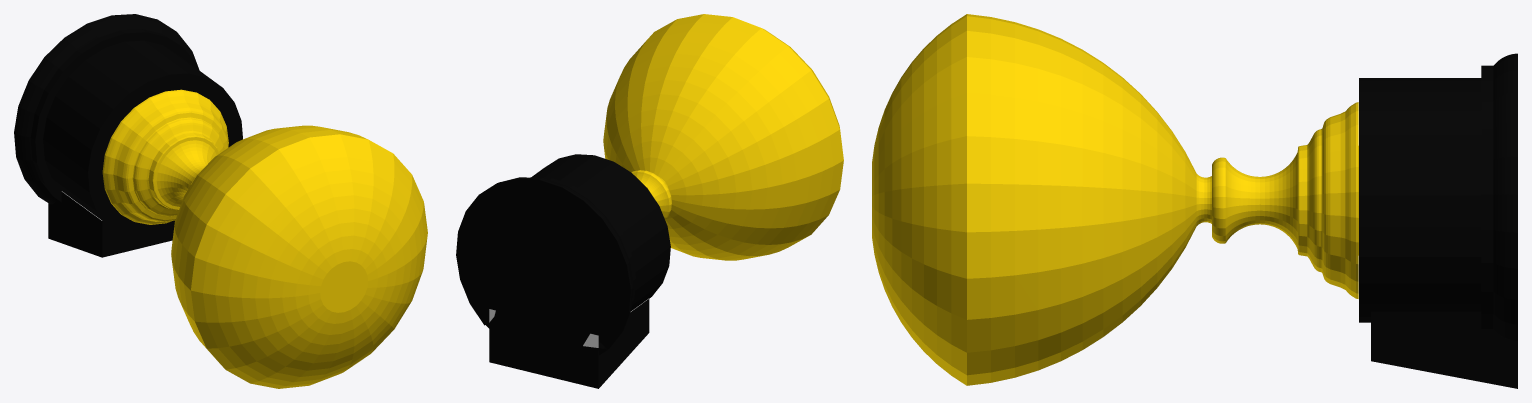
3 views of the same model, side by side, from view 1: azimuth 30°, elevation 25°; view 2: azimuth 150°, elevation 25°; view 3: azimuth 270°, elevation 25° (orthographic). The views are drawn at different scales.
Parts seen in each view (by area): view 1: trophy; view 2: trophy; view 3: trophy.
Part boxes in pixels (box(x1,y1,x2,y2)): trophy: box(14, 14, 427, 388); trophy: box(456, 14, 843, 388); trophy: box(872, 14, 1517, 388).
Bounding box in the file's own units: 7.62 × 7.62 × 13.19.
